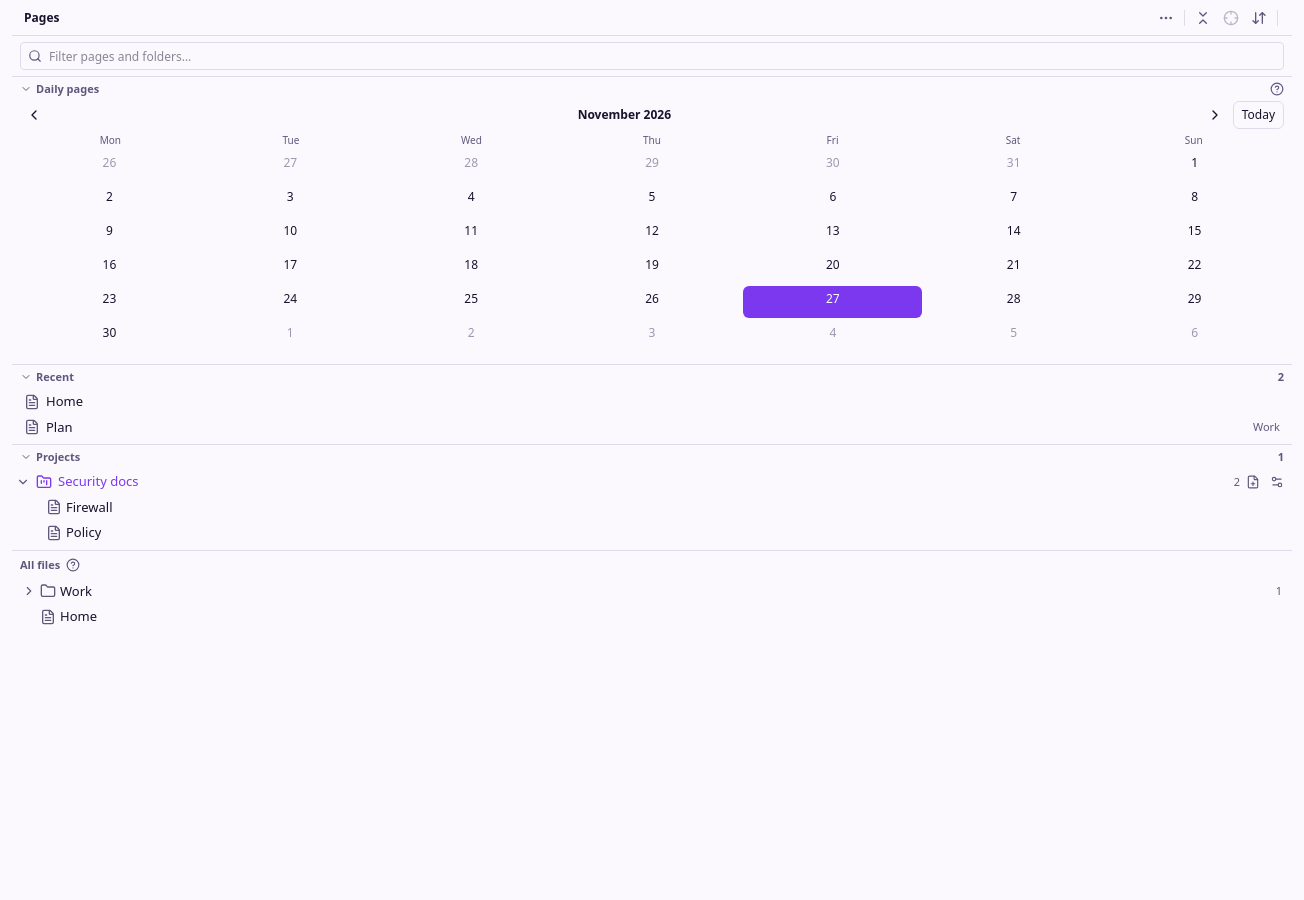
FilesPanel › opening and folding a project is remembered
The width and height of the screenshot is (1304, 900).
Click the button "Security docs 2" at (98, 481), box [16, 469, 1240, 494]
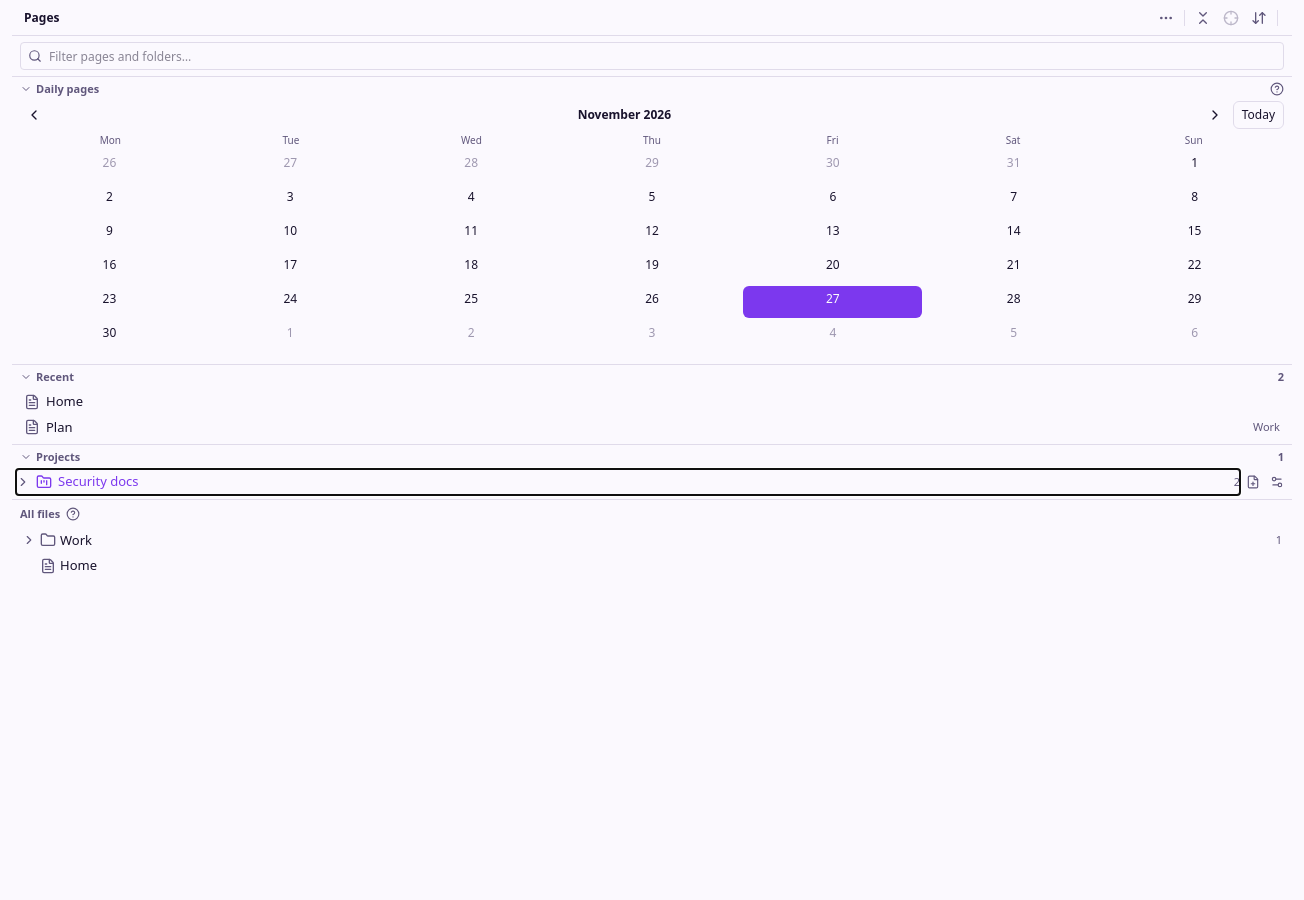
Click the button "Security docs 2" at (98, 481), box [16, 469, 1240, 494]
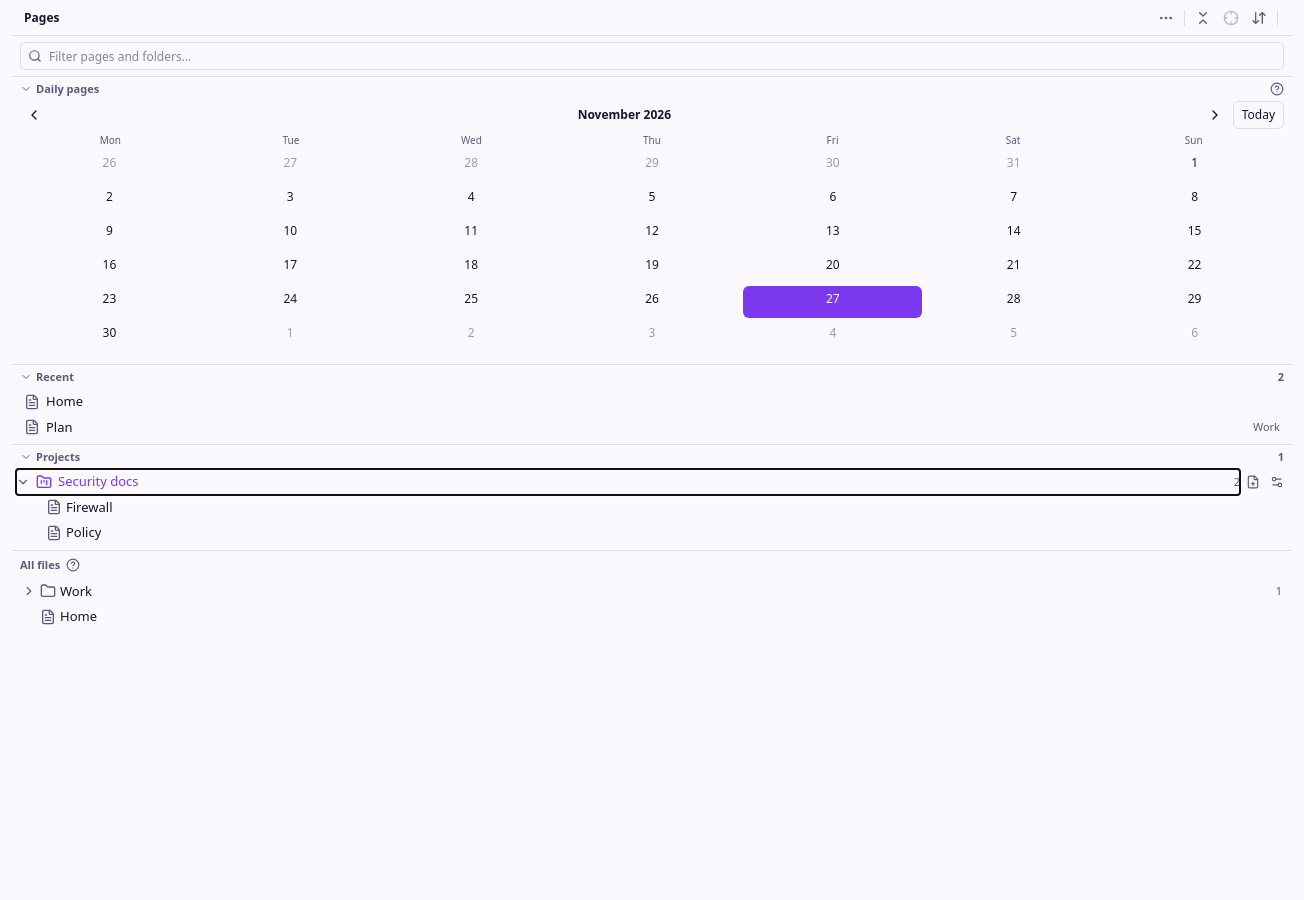
Check: the list item with test id "tree-Work/Security/Policy.md" is shown, box [46, 523, 101, 541]
